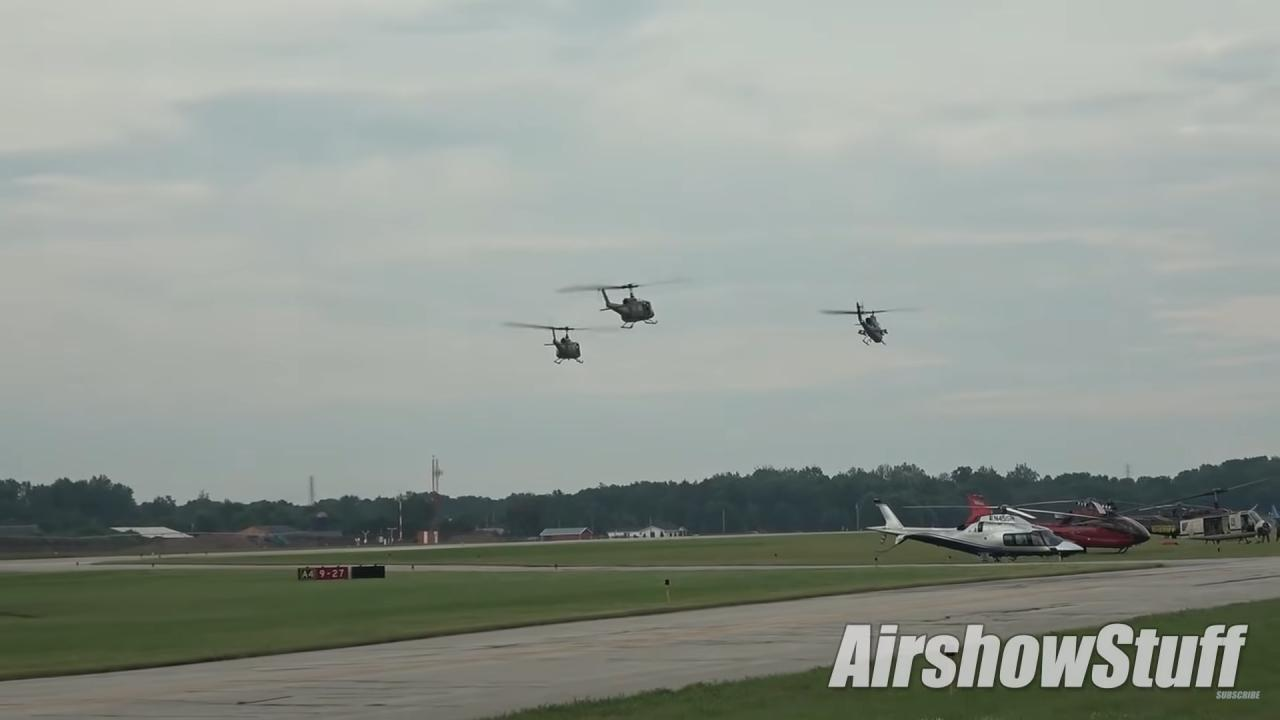Helicopter: (555, 251, 708, 341), (496, 304, 627, 385), (809, 284, 935, 364)
